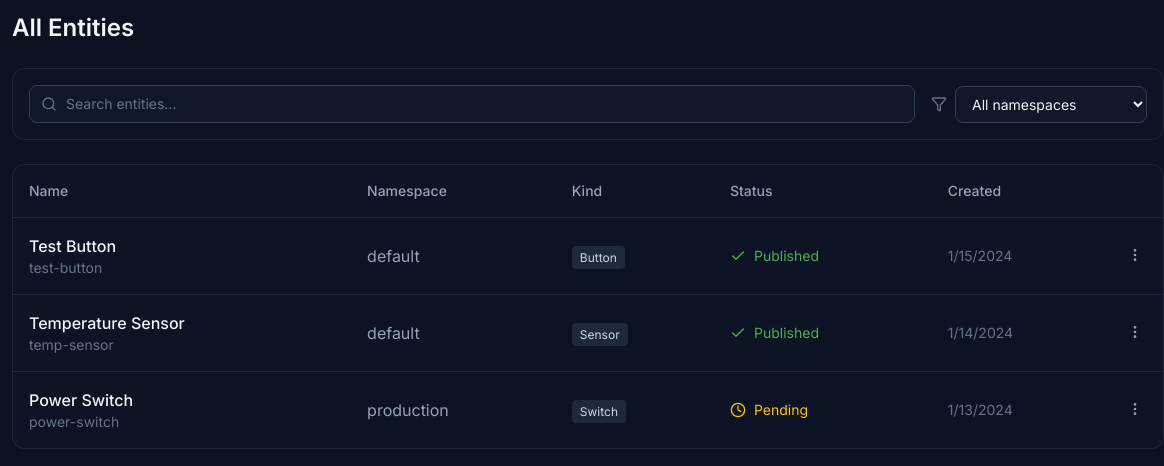
Scenario: EntityListPage › search functionality › filters entities by search query
The image size is (1164, 466).
expect the text "Test Button" is shown: met, box [29,236,116,256]
In the field with placeholder "Search entities...": (472, 104) [29,85,915,123], type "Button"
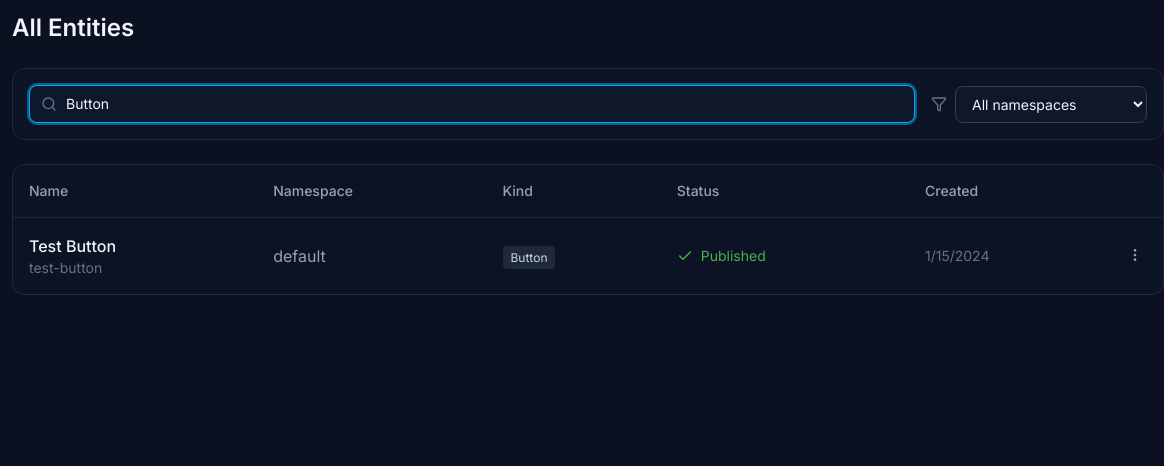
expect the text "Test Button" is shown: met, box [29,236,116,256]
expect the text "Temperature Sensor" is gone: met
